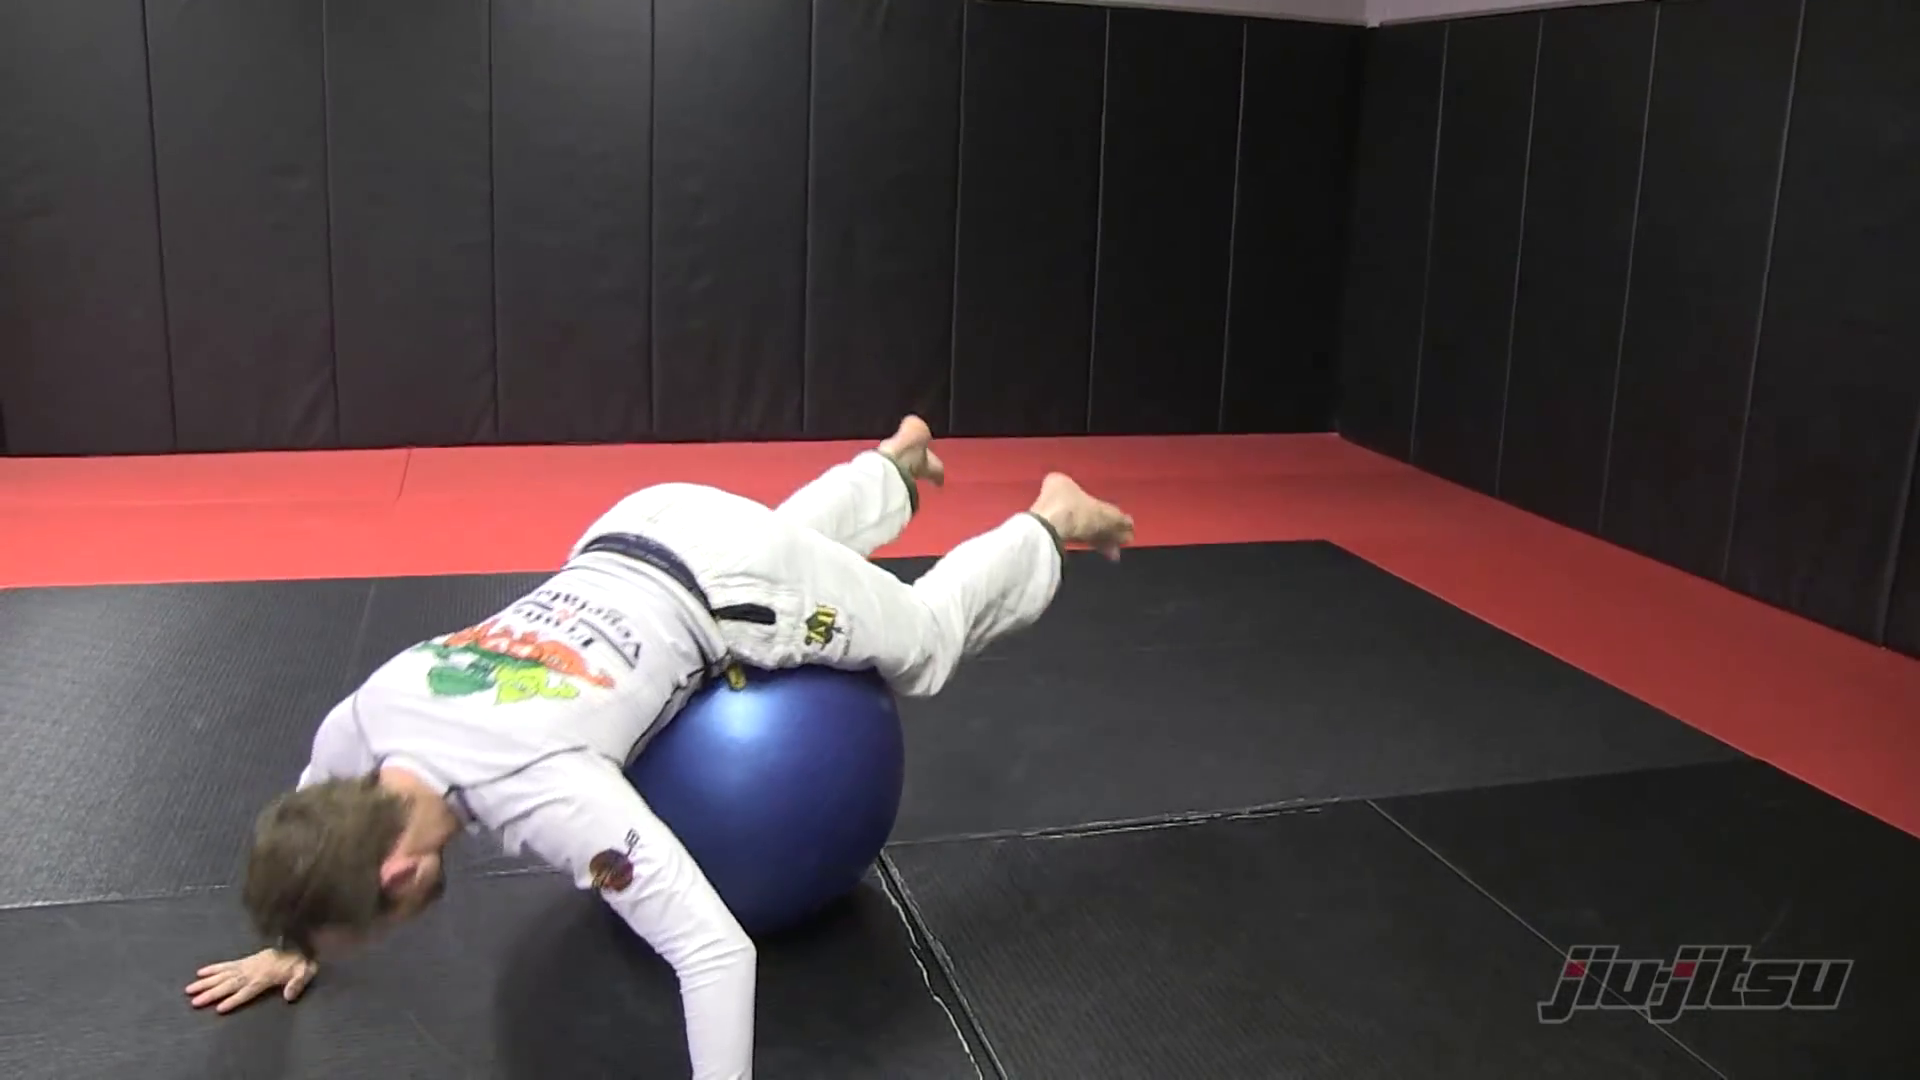yogaball: (626, 654, 930, 942)
